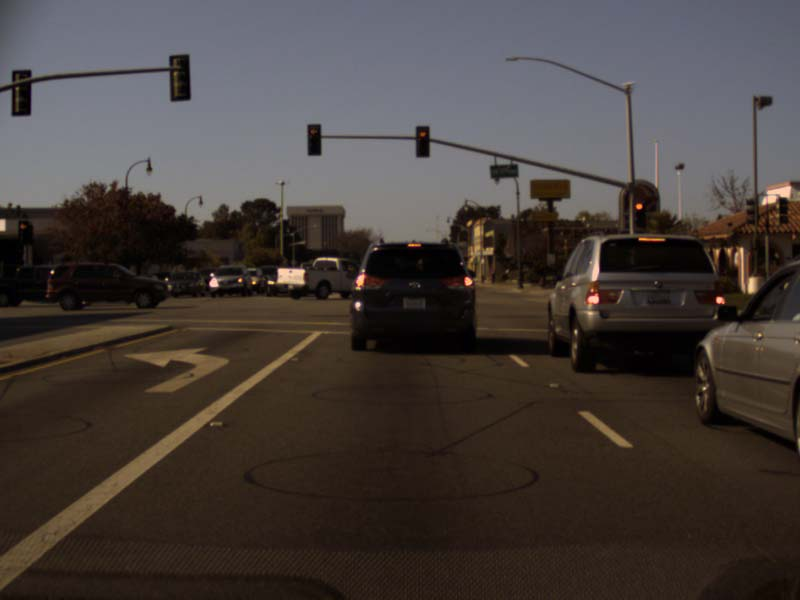Red: (414, 124, 430, 157), (307, 124, 322, 155), (633, 200, 647, 230), (19, 220, 30, 242)
